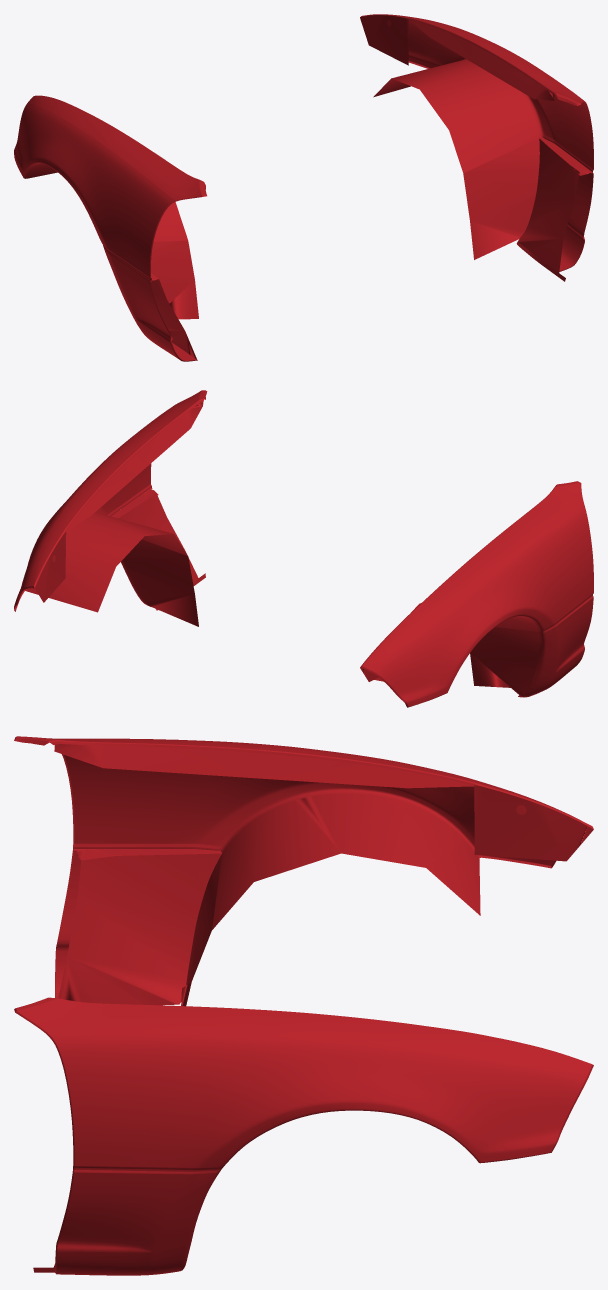
Rendered from stock.glb.
3 renders of one model, top to bottom at view 1: azimuth 30°, elevation 25°; view 2: azimuth 150°, elevation 25°; view 3: azimuth 270°, elevation 25°, orthographic. The views are drawn at different scales.
Parts seen in each view (by area): view 1: Miata_Stock_fenders-front; view 2: Miata_Stock_fenders-front; view 3: Miata_Stock_fenders-front.
Boxes of the visible parts, box(x1,y1,x2,y2) form: Miata_Stock_fenders-front: box(14, 14, 593, 361); Miata_Stock_fenders-front: box(14, 390, 593, 707); Miata_Stock_fenders-front: box(14, 736, 593, 1275).
Bounding box in the file's own units: 68.42 × 27.31 × 51.48.
